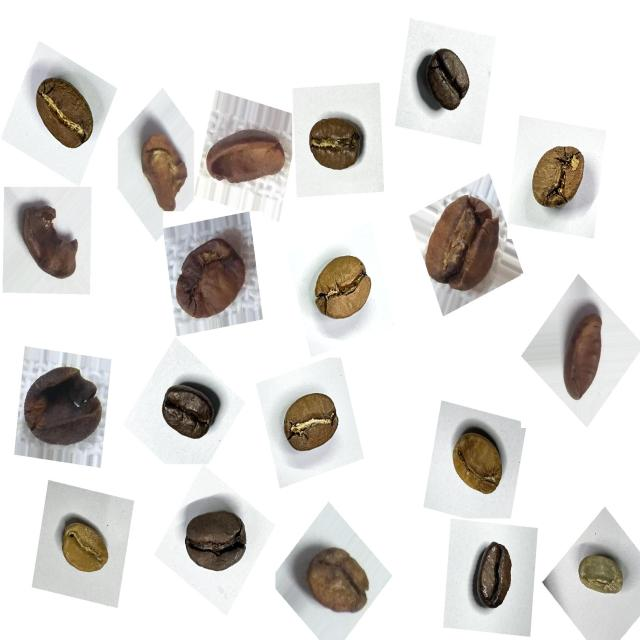bad: (414, 184, 510, 307), (16, 350, 111, 460), (168, 220, 255, 334), (297, 535, 378, 627), (9, 194, 85, 292), (205, 113, 292, 197), (550, 299, 613, 409), (134, 121, 196, 219)
dark: (176, 499, 258, 590), (413, 38, 483, 123), (155, 372, 227, 454), (465, 534, 528, 622)
green: (570, 543, 634, 608)
light: (442, 414, 515, 508), (51, 505, 119, 587)
medium: (24, 68, 104, 164), (304, 243, 384, 336), (521, 133, 595, 222), (274, 383, 349, 467), (300, 105, 372, 184)
